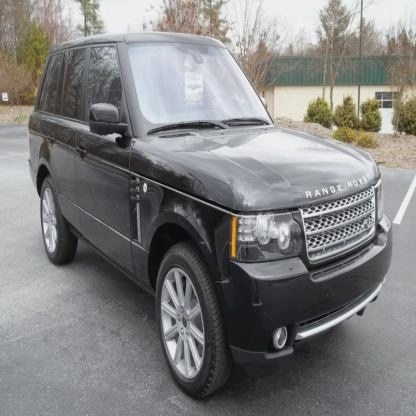Vehicle: (27, 28, 395, 400)
